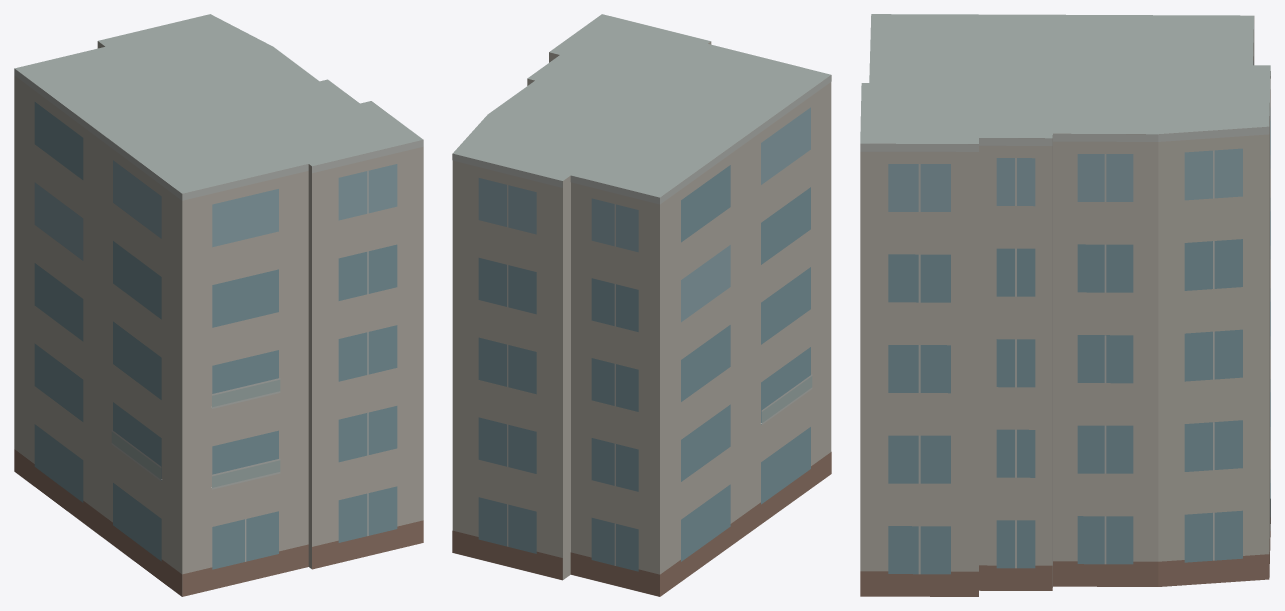
File: survey-upis-32539110.glb
3 renders of one model, left to right at view 1: azimuth 30°, elevation 25°; view 2: azimuth 150°, elevation 25°; view 3: azimuth 270°, elevation 25°, orthographic. The views are drawn at different scales.
Parts seen in each view (by area): view 1: survey-upis-32539110.tmp; view 2: survey-upis-32539110.tmp; view 3: survey-upis-32539110.tmp.
Boxes of the visible parts, <box> form: survey-upis-32539110.tmp: <box>14,14,423,596</box>; survey-upis-32539110.tmp: <box>452,14,831,596</box>; survey-upis-32539110.tmp: <box>860,14,1270,596</box>.
Size of the model in its own units: 8.72 by 14.1 by 11.6.
